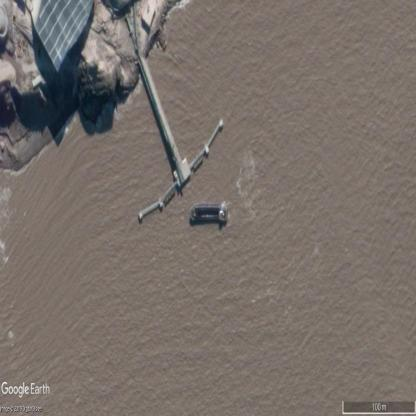ship: (191, 204, 227, 225)
